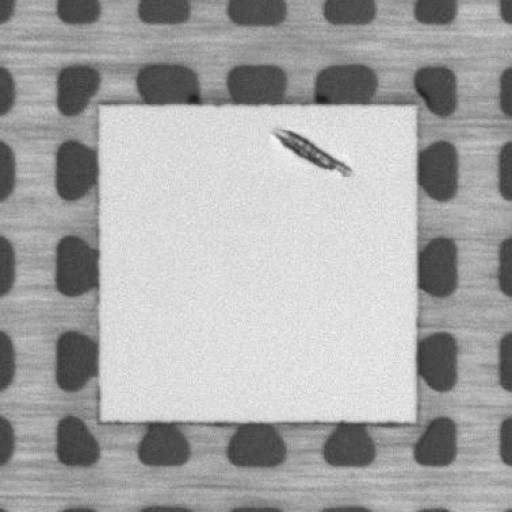DIE_INK: (269, 126, 351, 176)
